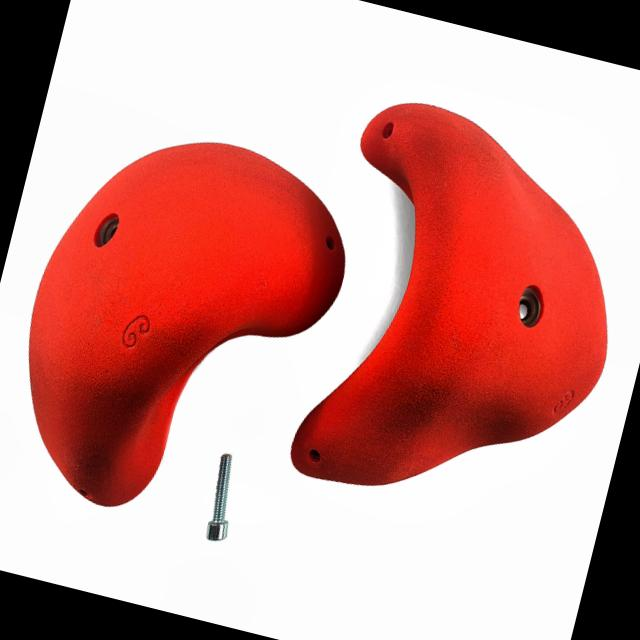Hold: (0, 108, 371, 555), (283, 83, 640, 529)
